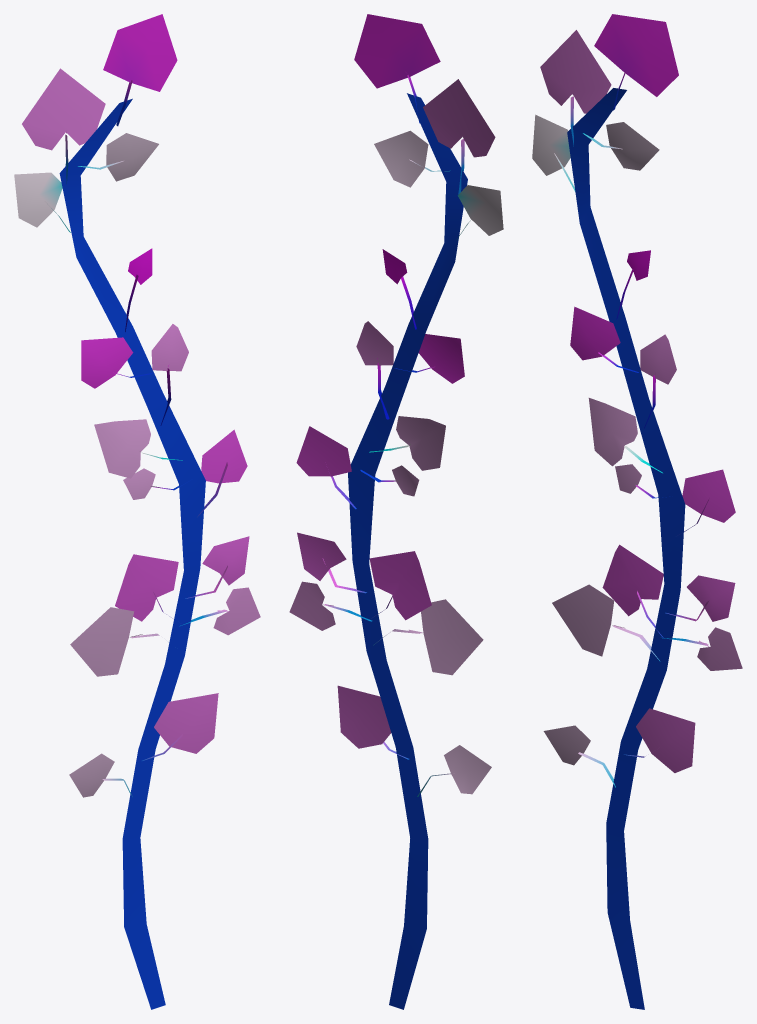
File: English_Ivy_xfcnebhqx_Mid_xfcnebhqx_VarB_LOD1.fbx
3 views of the same model, side by side, from view 1: azimuth 30°, elevation 25°; view 2: azimuth 150°, elevation 25°; view 3: azimuth 330°, elevation 25° (orthographic).
Visible parts, largest first — view 1: _hlsi_VarB_LOD3; view 2: _hlsi_VarB_LOD3; view 3: _hlsi_VarB_LOD3.
Boxes of the visible parts, x1=… form: _hlsi_VarB_LOD3: x1=14, y1=14, x2=260, y2=1009; _hlsi_VarB_LOD3: x1=289, y1=14, x2=503, y2=1009; _hlsi_VarB_LOD3: x1=532, y1=14, x2=742, y2=1009.
Bounding box in the file's own units: 17.78 × 73.47 × 3.22.
